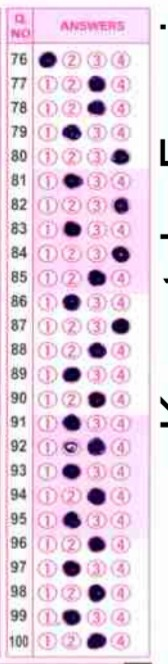filled circles: (87, 437, 105, 455), (87, 487, 105, 504), (63, 414, 81, 431), (63, 293, 80, 310), (88, 584, 105, 601), (63, 511, 80, 528), (88, 269, 105, 286), (62, 560, 80, 576), (62, 609, 80, 625), (62, 463, 80, 479), (111, 148, 129, 164), (88, 342, 106, 358), (87, 633, 106, 648), (62, 124, 81, 139), (63, 173, 82, 188), (112, 246, 129, 262), (88, 75, 105, 91), (39, 51, 56, 67), (88, 391, 105, 407), (63, 221, 81, 236), (111, 318, 129, 333), (88, 536, 105, 551), (87, 100, 105, 114), (63, 367, 80, 381), (114, 197, 128, 213), (63, 441, 78, 454)
